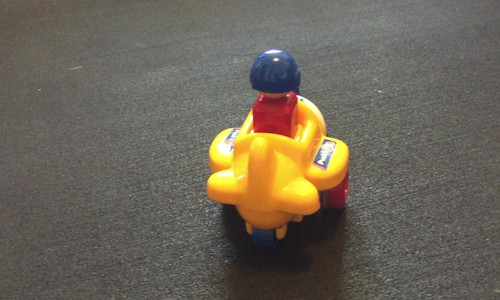toy: (199, 47, 358, 243)
